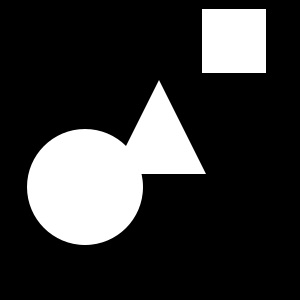circle: (202, 9, 266, 73)
rectangle: (27, 129, 143, 245)
triangle: (112, 80, 206, 174)
